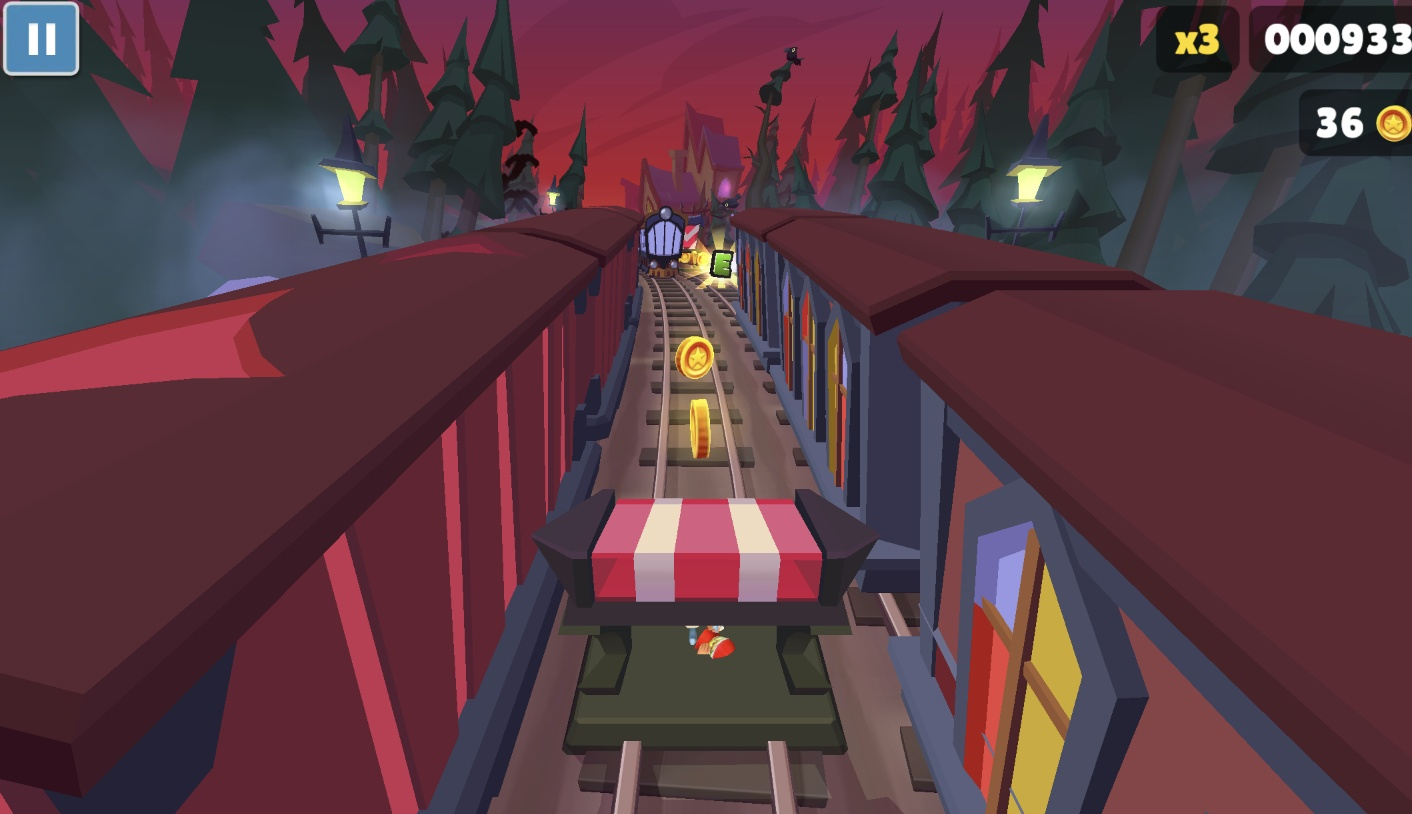ground_barrier: (531, 489, 878, 755)
overhead_barrier: (681, 214, 706, 261)
train: (731, 209, 1412, 814), (0, 206, 646, 814), (637, 206, 688, 276)
